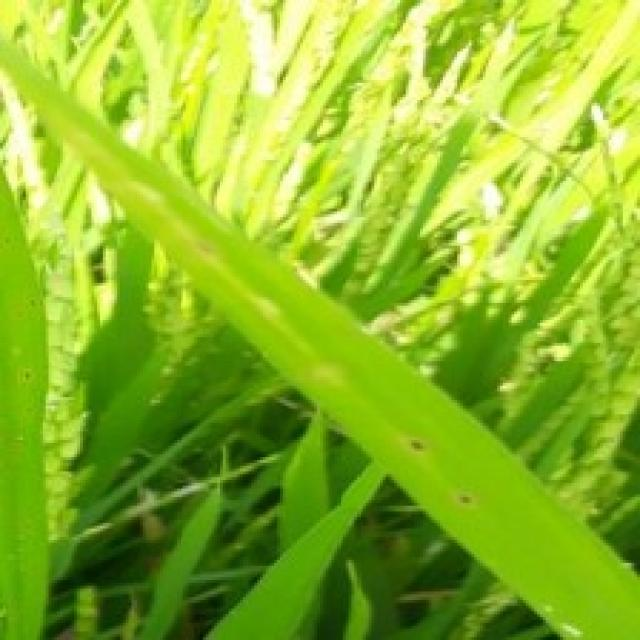Rice___Brown_Spot: (0, 45, 637, 637)
